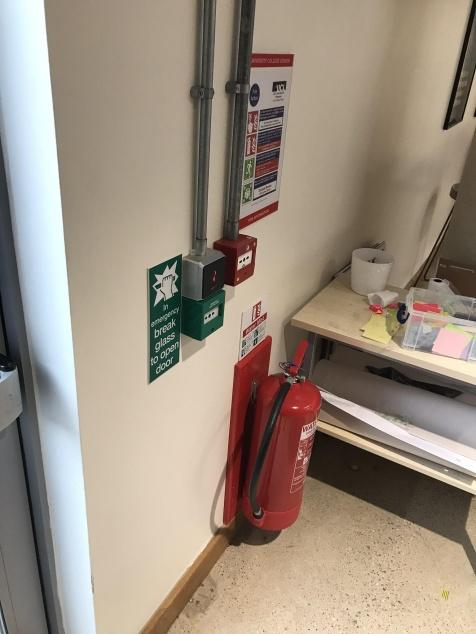APAR: (238, 339, 322, 532)
